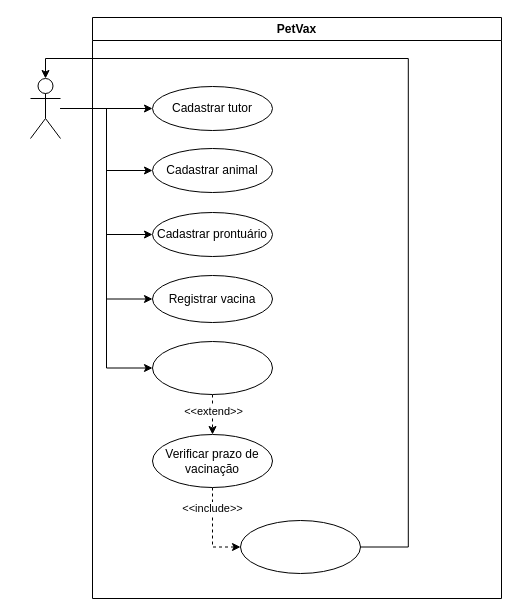
The diagram is 519 pixels wide and 616 high, and some of its shapes have lost their labels. Here are the shapes that lost their labels. From the top down, the centre of each, then its label:
At pixel 45 108: "Médico V eterinário".
At pixel 212 367: "Gerenciar agenda".
At pixel 300 547: "Disparar n otificação".
